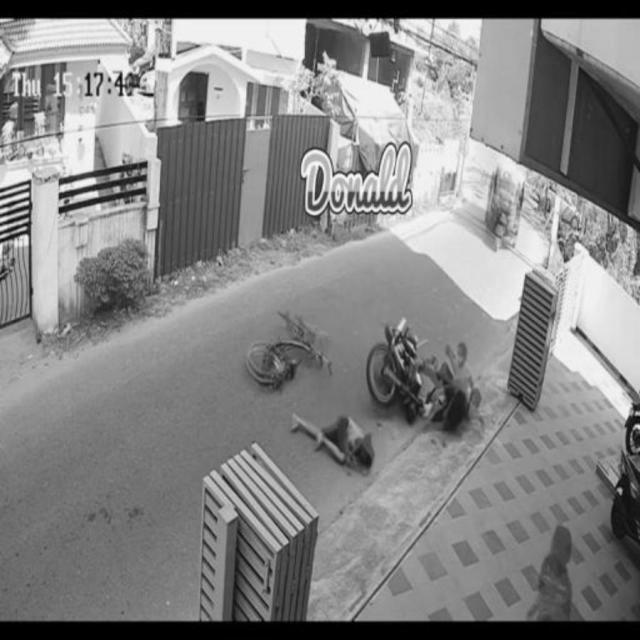person: (290, 399, 376, 477)
vehicle: (367, 319, 485, 431), (236, 314, 337, 391), (488, 157, 526, 245)
